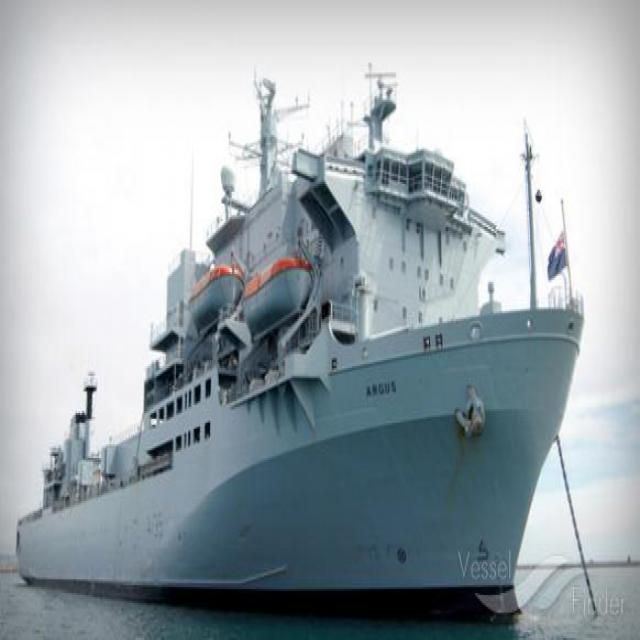OCR: (136, 505, 168, 548), (360, 379, 400, 404)
